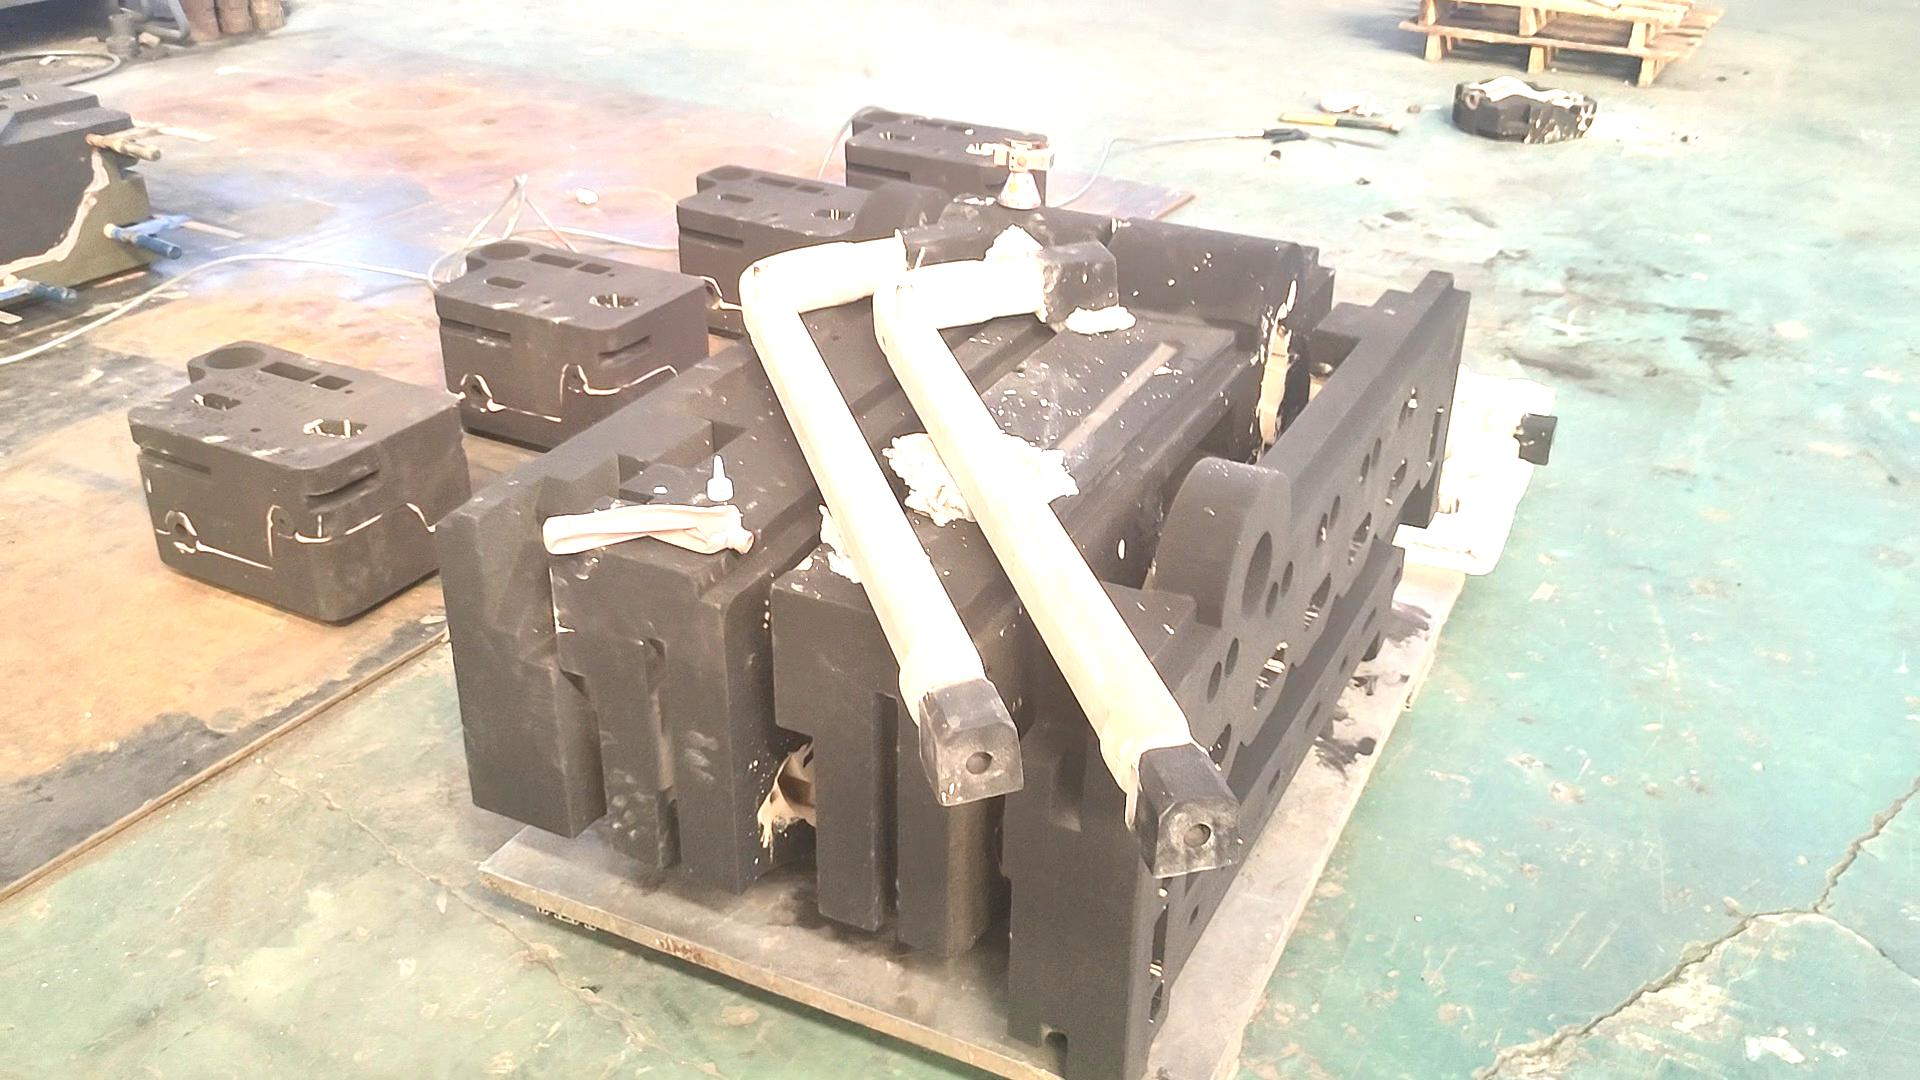pouring hole: (1242, 529, 1274, 620), (203, 347, 265, 369), (702, 165, 756, 182), (477, 243, 530, 260), (861, 109, 902, 124)
